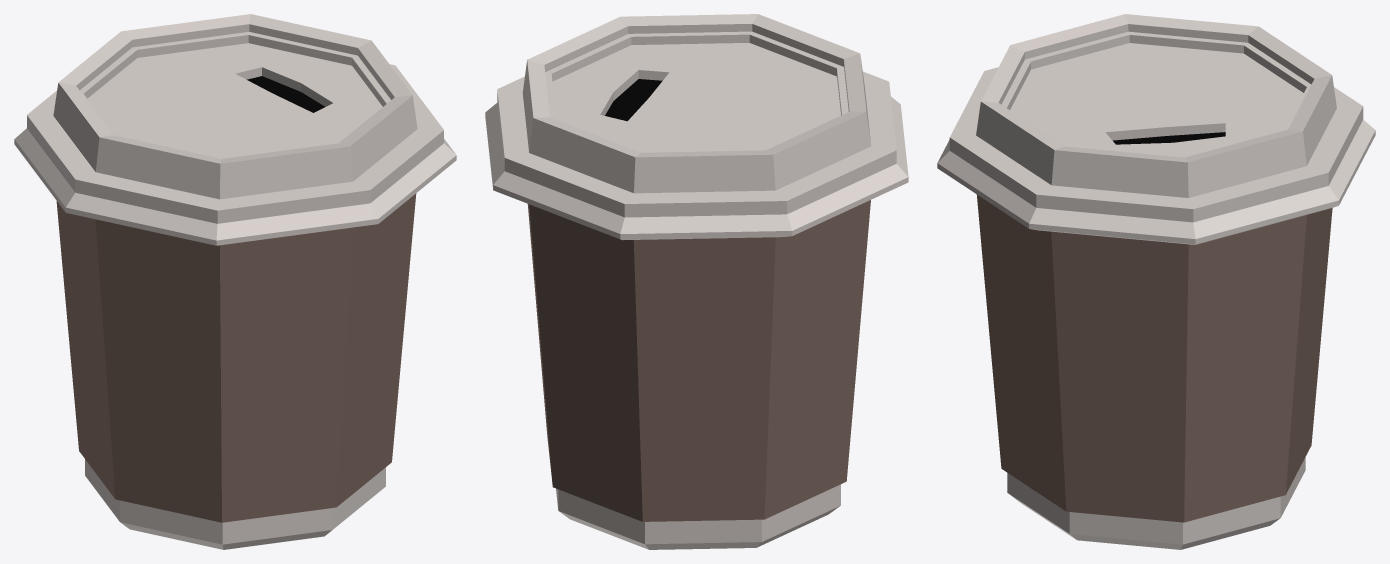
The model's file is CoffeeCup_Small.fbx.
The picture shows the model from 3 angles, left to right: view 1: azimuth 30°, elevation 25°; view 2: azimuth 150°, elevation 25°; view 3: azimuth 270°, elevation 25°; orthographic projection.
Parts seen in each view (by area): view 1: CoffeeCup_Small; view 2: CoffeeCup_Small; view 3: CoffeeCup_Small.
Part boxes in pixels (bbox=[...]): CoffeeCup_Small: bbox=[14, 14, 456, 549]; CoffeeCup_Small: bbox=[485, 14, 908, 549]; CoffeeCup_Small: bbox=[937, 14, 1375, 549].
Size of the model in its own units: 48.17 by 49 by 48.17.
